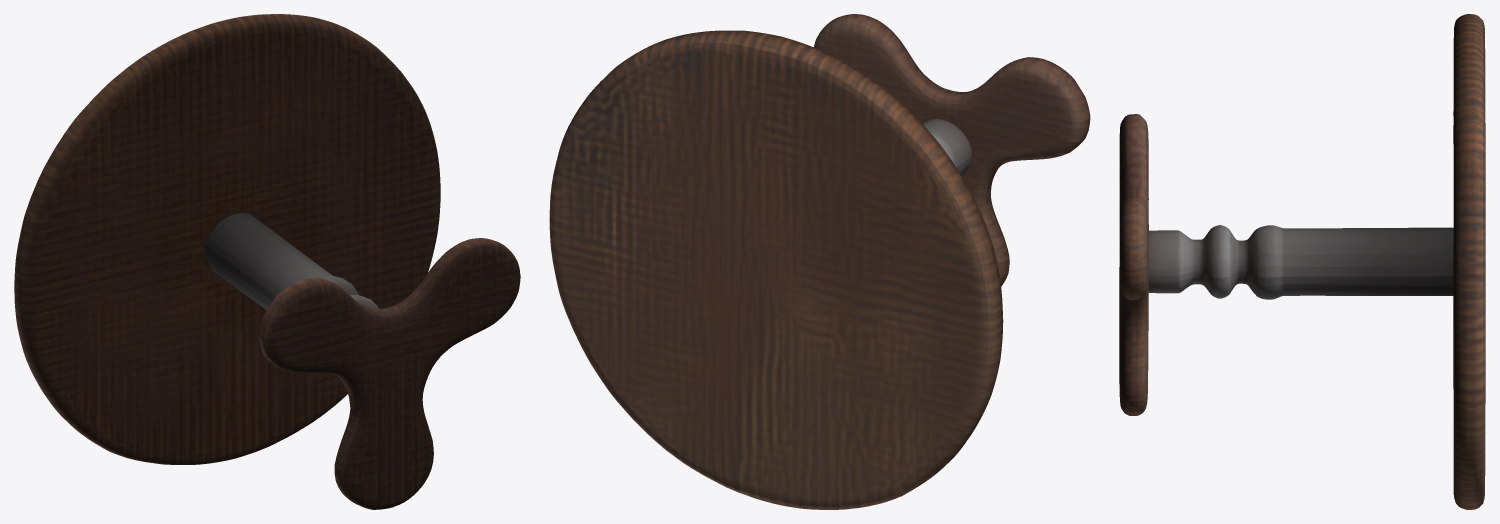
The picture shows the model from 3 angles, left to right: view 1: azimuth 30°, elevation 25°; view 2: azimuth 150°, elevation 25°; view 3: azimuth 270°, elevation 25°; orthographic projection. The views are drawn at different scales.
Parts seen in each view (by area): view 1: world; view 2: world; view 3: world.
Boxes of the visible parts, x1,y1,x2,y2 form: world: (14,14,520,509); world: (549,14,1090,509); world: (1119,14,1485,509).
Size of the model in its own units: 0.9995 by 0.9924 by 0.7345.
